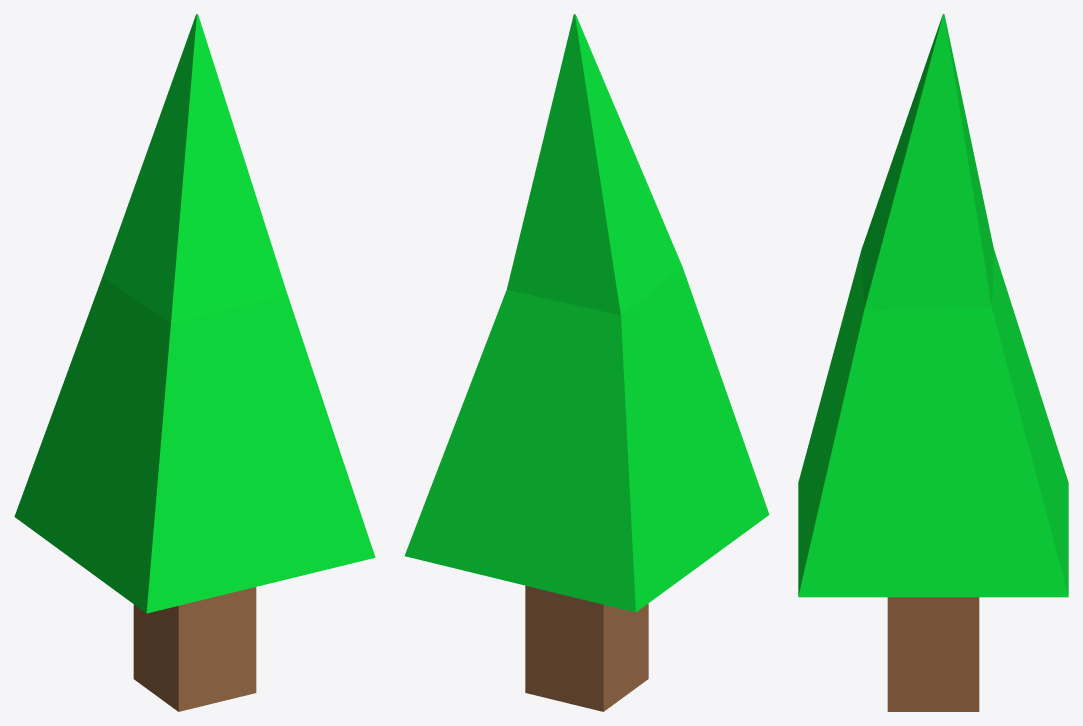
3 views of the same model, side by side, from view 1: azimuth 30°, elevation 25°; view 2: azimuth 150°, elevation 25°; view 3: azimuth 270°, elevation 25° (orthographic). The views are drawn at different scales.
Visible parts, largest first — view 1: Cube.004; view 2: Cube.004; view 3: Cube.004.
Part boxes in pixels (x1,y1,x2,y2): Cube.004: (14, 14, 375, 711); Cube.004: (404, 14, 769, 711); Cube.004: (798, 14, 1068, 711).
Size of the model in its own units: 2.98 by 8.3 by 2.98.
